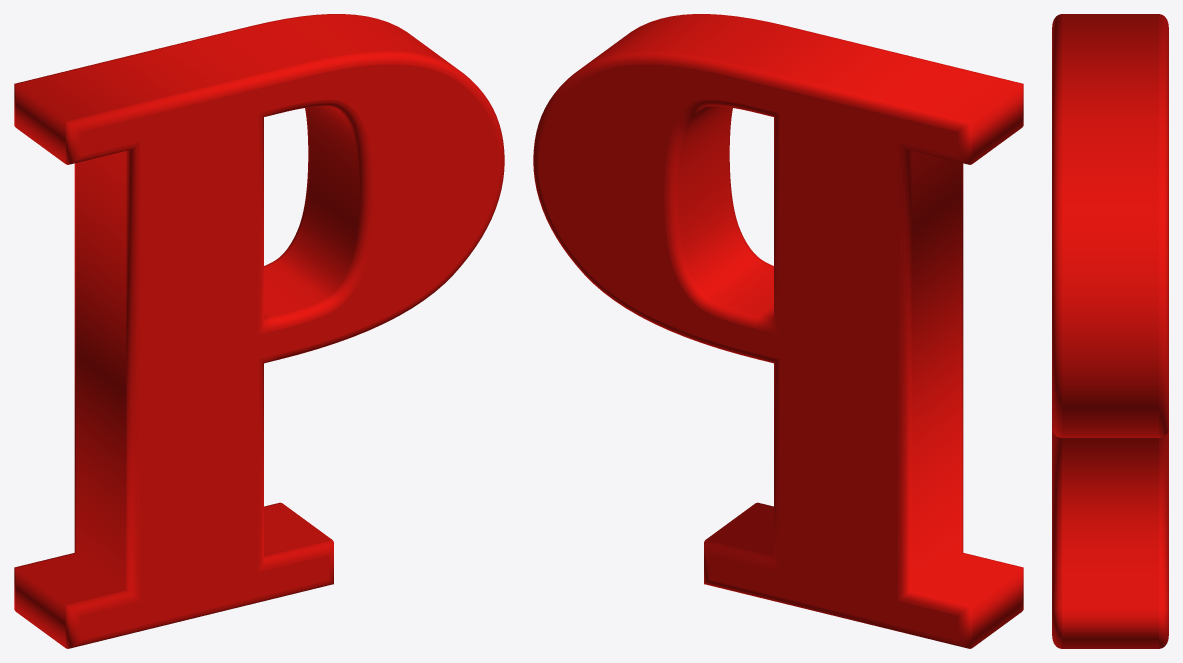
Rendered from capital_p.fbx.
3 views of the same model, side by side, from view 1: azimuth 30°, elevation 25°; view 2: azimuth 150°, elevation 25°; view 3: azimuth 270°, elevation 25° (orthographic). The views are drawn at different scales.
Parts seen in each view (by area): view 1: Text; view 2: Text; view 3: Text.
Boxes of the visible parts, x1,y1,x2,y2 form: Text: (14, 14, 504, 648); Text: (533, 14, 1023, 648); Text: (1052, 14, 1168, 648).
Bounding box in the file's own units: 192 × 221 × 45.93.
